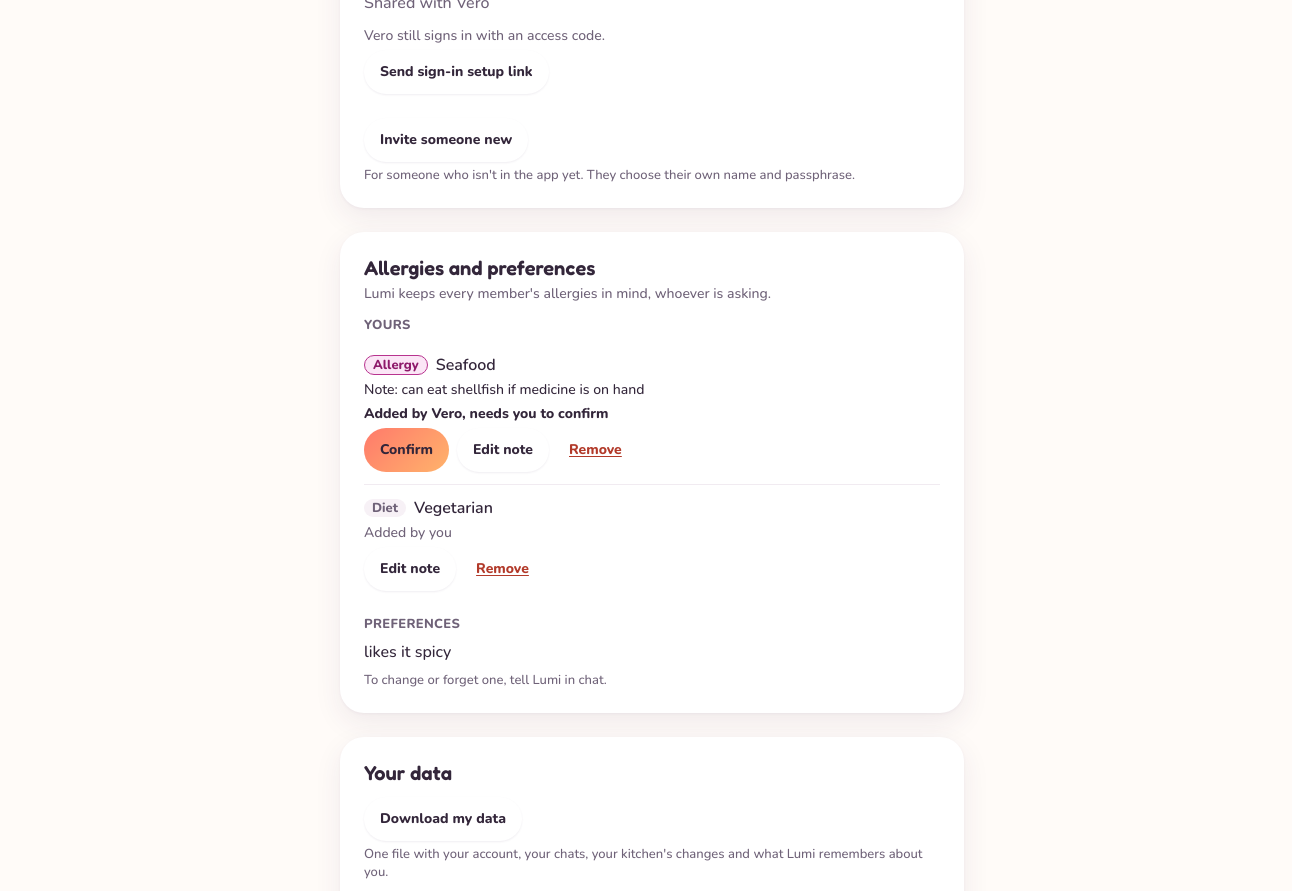
Test: Confirm / Edit note / Remove (AI7: owner only) › Confirm verifies it, shows the receipt with Undo, and clears the home banner's count
(page scrolled)
Click the button with aria-label "Confirm your seafood allergy": click(406, 450) [364, 428, 449, 472]
(page scrolled)
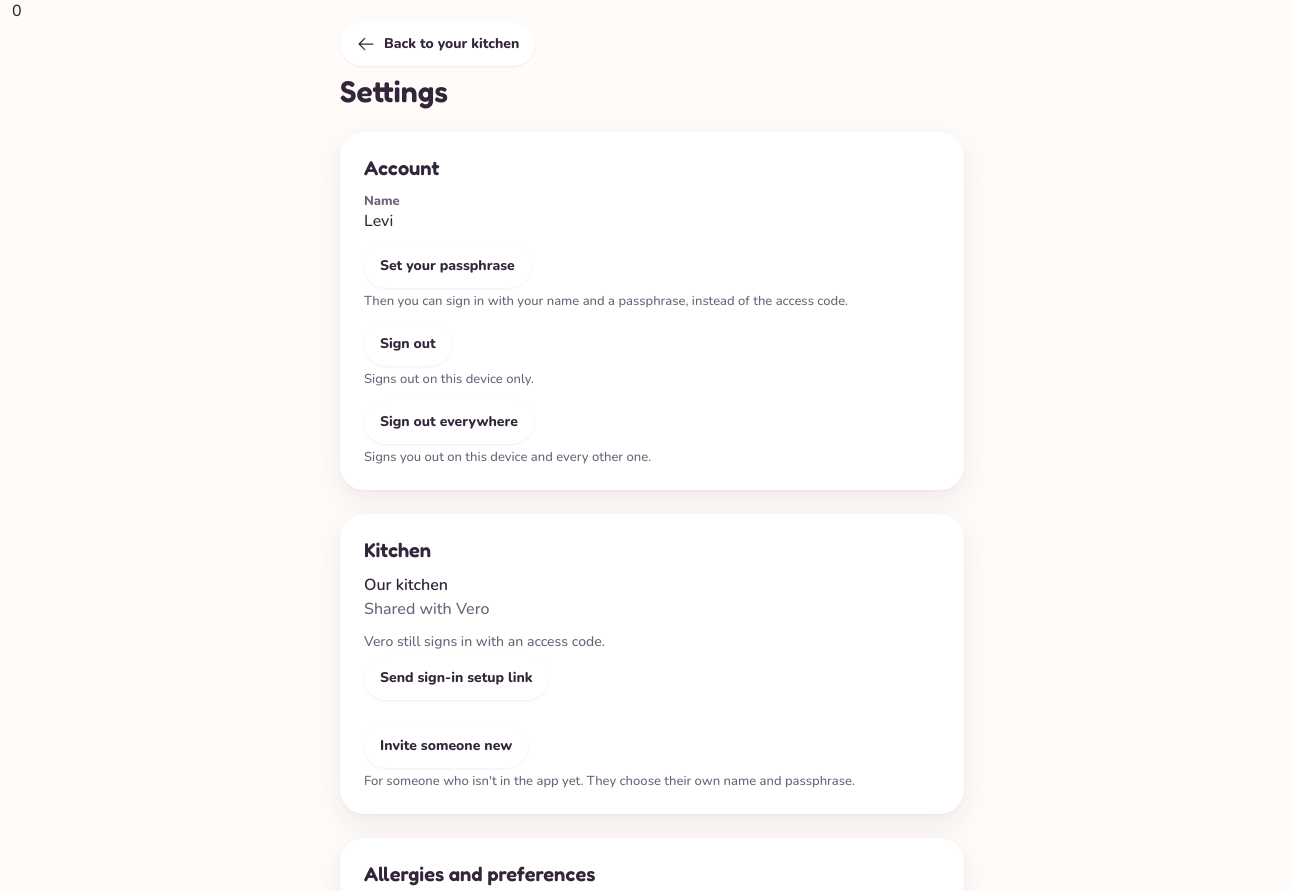
Check: the text with test id "pending" reads "0", box [12, 0, 22, 22]
